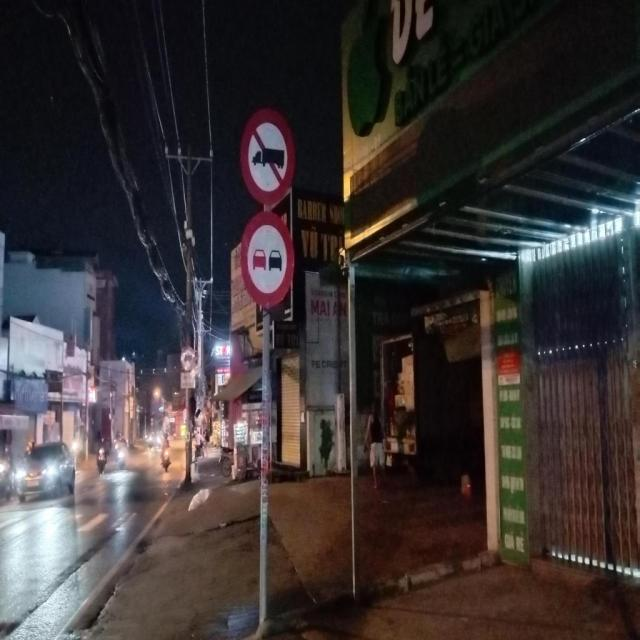cam_o_to_tai: (180, 346, 196, 372)
cam_o_to_tai_trong_luong_qua_10t: (241, 109, 295, 206)
cam_vuot: (240, 212, 294, 308)
